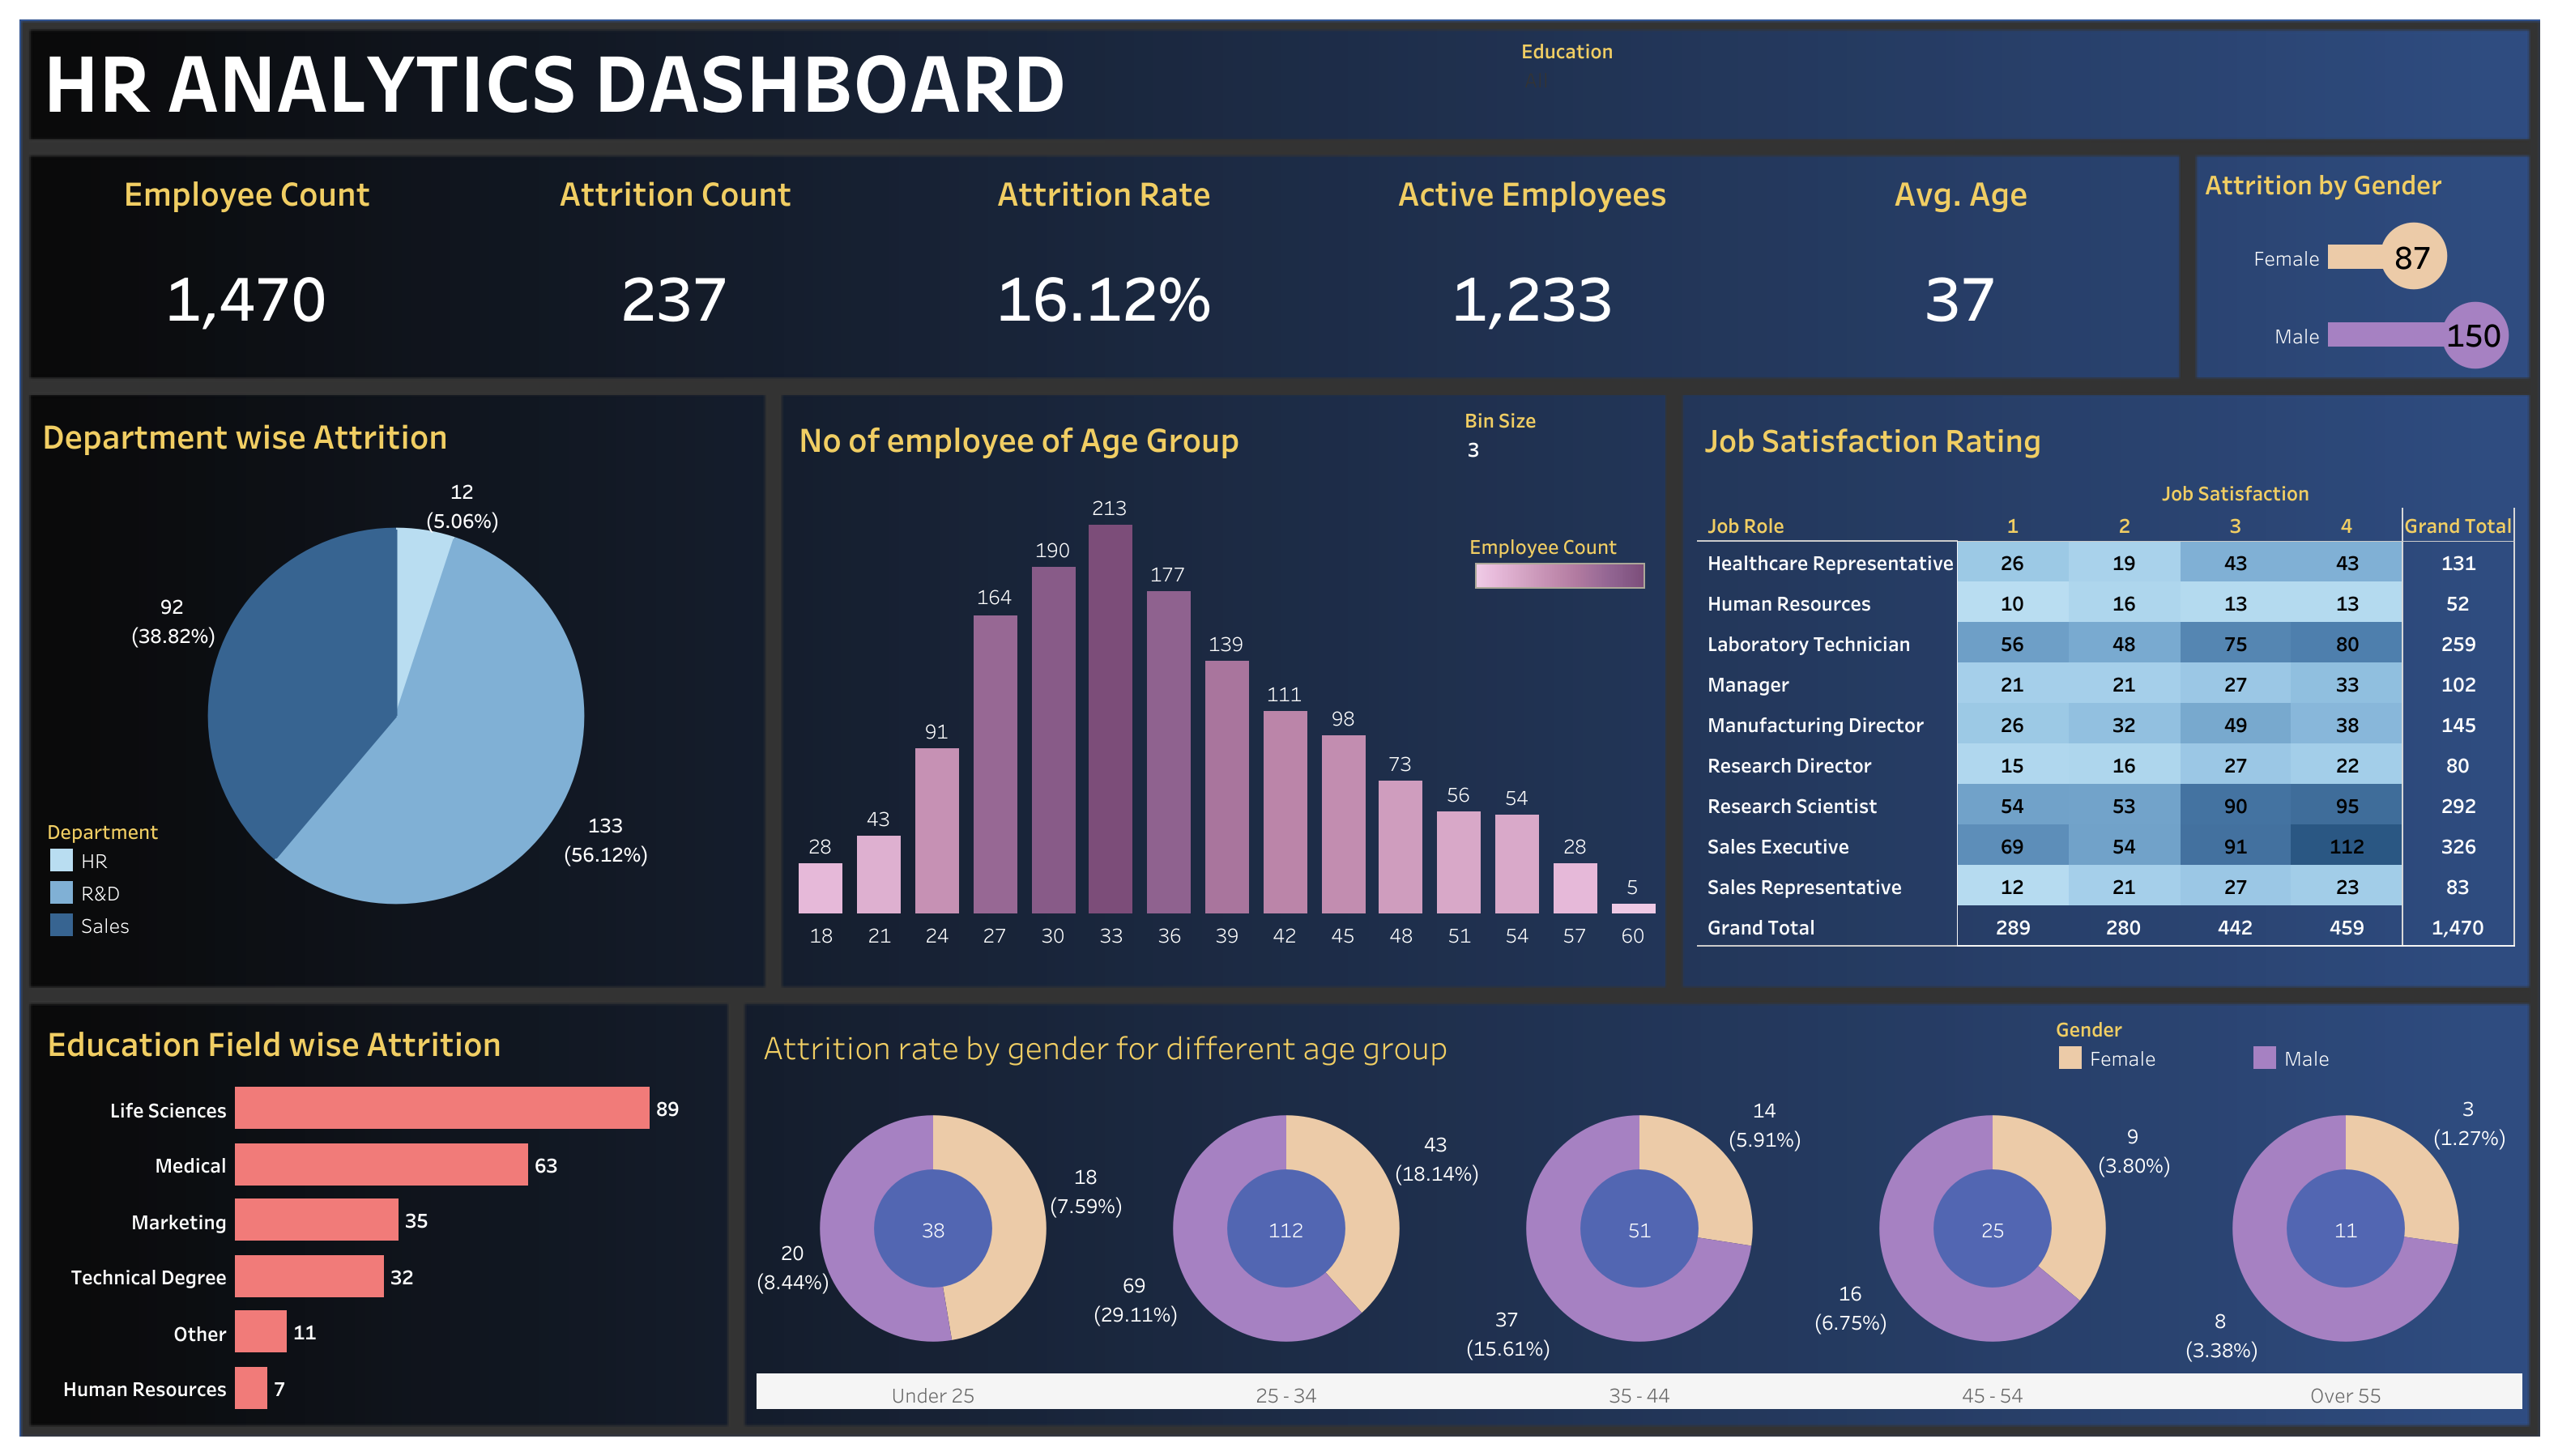

What the dashboard file says about the page in this screenshot:
{"tool":"tableau","page":{"name":"HR Analytics Dashboard","canvas":[1580,900],"ordinal":0},"visuals":[{"type":"image","param":"/Users/snehasishdas/Downloads/HR background.pptx.png","box":[8,8,1564,884]},{"type":"text","box":[24,17,736,64]},{"type":"filter","title":"Department wise Attrition","param":"[federated.1jj2x490ueh78x151iozg0zb34aw].[none:Education:nk]","box":[939,21,160,58]},{"type":"worksheet","title":"KPI","mark":"Automatic","box":[20,93,1323,140]},{"type":"worksheet","title":"Attrition by Gender","mark":"Automatic","rows":["Gender"],"cols":["Calculation_2684699720863744","Calculation_2684699720863744"],"box":[1357,96,206,135]},{"type":"worksheet","title":"Department wise Attrition","mark":"Pie","box":[22,249,445,343]},{"type":"parameter","param":"[Parameters].[Parameter 2684699753050115]","box":[904,249,119,67]},{"type":"worksheet","title":"No of employee of Age Group","mark":"Automatic","rows":["Employee Count"],"cols":["Age (bin)"],"box":[489,251,537,335]},{"type":"worksheet","title":"Job Satisfaction Rating","mark":"Square","rows":["Job Role"],"cols":["Job Satisfaction"],"box":[1048,252,505,333]},{"type":"legend","title":"No of employee of Age Group","param":"[federated.1jj2x490ueh78x151iozg0zb34aw].[sum:Employee Count:qk]","box":[907,324,113,44]},{"type":"legend","title":"Department wise Attrition","param":"[federated.1jj2x490ueh78x151iozg0zb34aw].[none:Department:nk]","box":[28,502,140,78]},{"type":"worksheet","title":"Education Field wise Attrition","mark":"Automatic","rows":["Education Field"],"cols":["Calculation_2684699720863744"],"box":[25,624,413,250]},{"type":"legend","title":"Attrition rate by gender for different age group","param":"[federated.1jj2x490ueh78x151iozg0zb34aw].[none:Gender:nk]","box":[1268,624,292,43]},{"type":"worksheet","title":"Attrition rate by gender for different age group","mark":"Pie","rows":["Calculation_2684699777462280","Calculation_2684699777462280"],"cols":["CF_age band"],"box":[467,627,1090,243]}]}

Visuals, with their boxes in screenshot pixels (x1, y1, x2, y2), scaled from the page's 1580x900 canvas onto the 2558x1456 screenshot:
image: {"x1": 13, "y1": 13, "x2": 2545, "y2": 1443}
text: {"x1": 39, "y1": 28, "x2": 1230, "y2": 131}
"Department wise Attrition" filter: {"x1": 1520, "y1": 34, "x2": 1780, "y2": 128}
"KPI" worksheet: {"x1": 32, "y1": 151, "x2": 2174, "y2": 377}
"Attrition by Gender" worksheet: {"x1": 2197, "y1": 155, "x2": 2530, "y2": 373}
"Department wise Attrition" worksheet (Pie marks): {"x1": 36, "y1": 402, "x2": 756, "y2": 958}
parameter: {"x1": 1464, "y1": 402, "x2": 1656, "y2": 511}
"No of employee of Age Group" worksheet: {"x1": 791, "y1": 406, "x2": 1661, "y2": 948}
"Job Satisfaction Rating" worksheet (Square marks): {"x1": 1697, "y1": 407, "x2": 2514, "y2": 947}
"No of employee of Age Group" legend: {"x1": 1469, "y1": 524, "x2": 1652, "y2": 595}
"Department wise Attrition" legend: {"x1": 45, "y1": 812, "x2": 272, "y2": 939}
"Education Field wise Attrition" worksheet: {"x1": 41, "y1": 1010, "x2": 709, "y2": 1414}
"Attrition rate by gender for different age group" legend: {"x1": 2053, "y1": 1010, "x2": 2526, "y2": 1079}
"Attrition rate by gender for different age group" worksheet (Pie marks): {"x1": 756, "y1": 1015, "x2": 2521, "y2": 1407}
